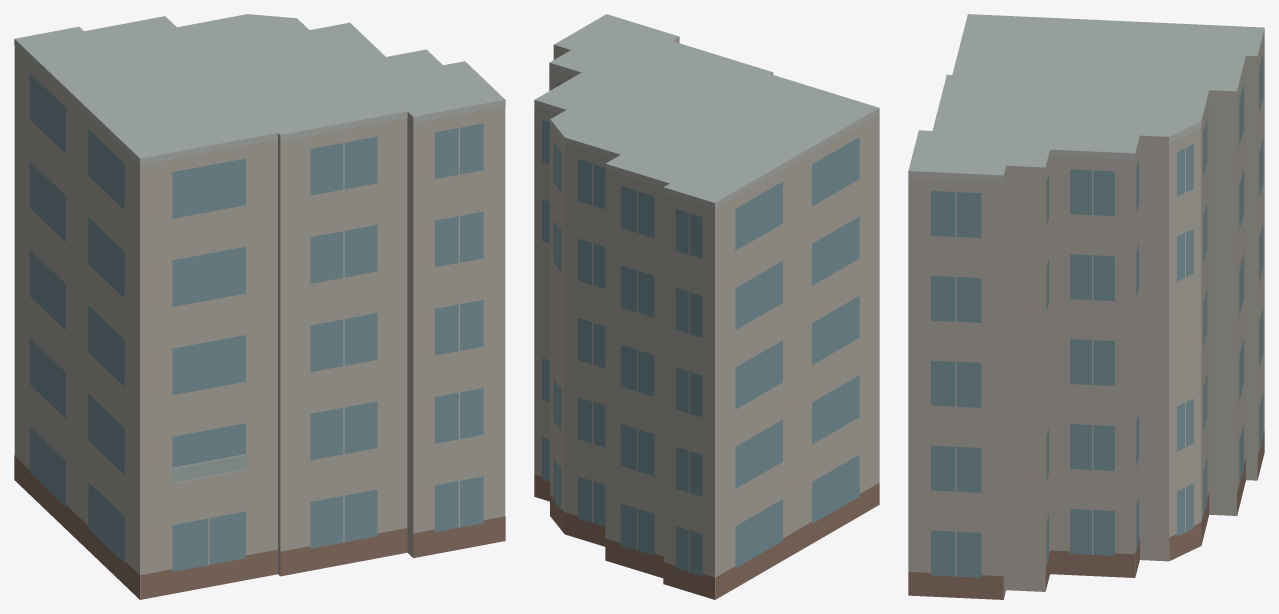
Rendered from survey-upis-33012807.glb.
The picture shows the model from 3 angles, left to right: view 1: azimuth 30°, elevation 25°; view 2: azimuth 150°, elevation 25°; view 3: azimuth 270°, elevation 25°; orthographic projection. The views are drawn at different scales.
Visible parts, largest first — view 1: survey-upis-33012807.tmp; view 2: survey-upis-33012807.tmp; view 3: survey-upis-33012807.tmp.
Boxes of the visible parts, box(x1,y1,x2,y2) form: survey-upis-33012807.tmp: box(14, 14, 505, 599); survey-upis-33012807.tmp: box(534, 14, 879, 599); survey-upis-33012807.tmp: box(908, 14, 1264, 599).
Size of the model in its own units: 13.54 by 16.6 by 12.64.
